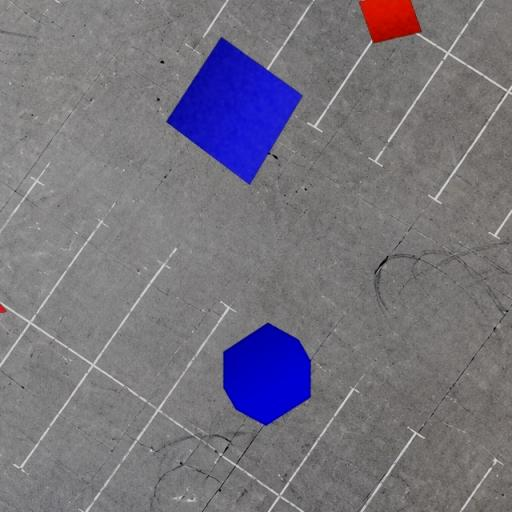BLUE_SQUARE: (166, 36, 304, 186)
RED_SQUARE: (358, 0, 422, 44)
